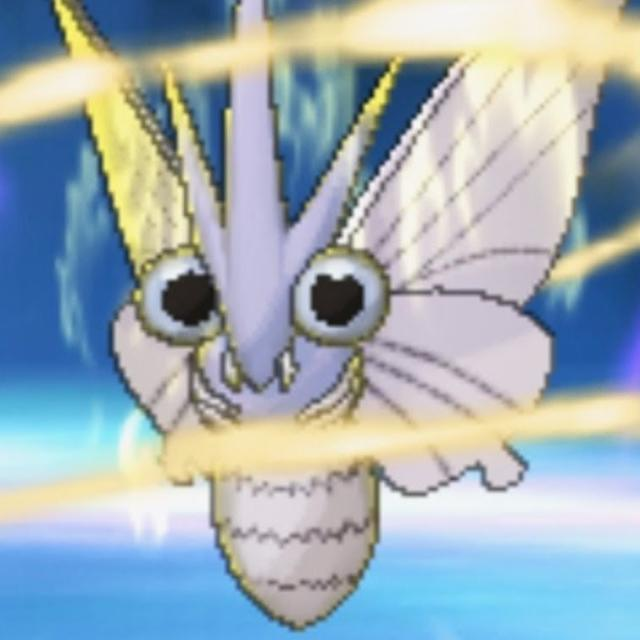Venomoth: (111, 50, 548, 562)
